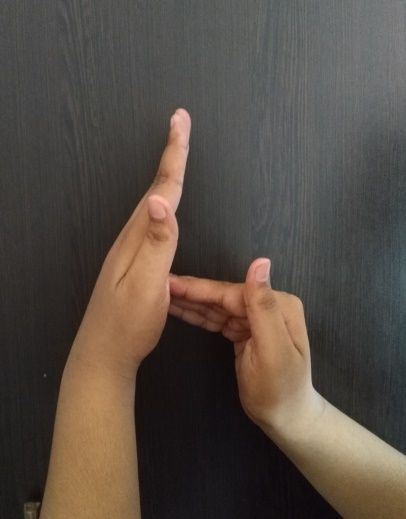ga: (86, 107, 323, 423)
